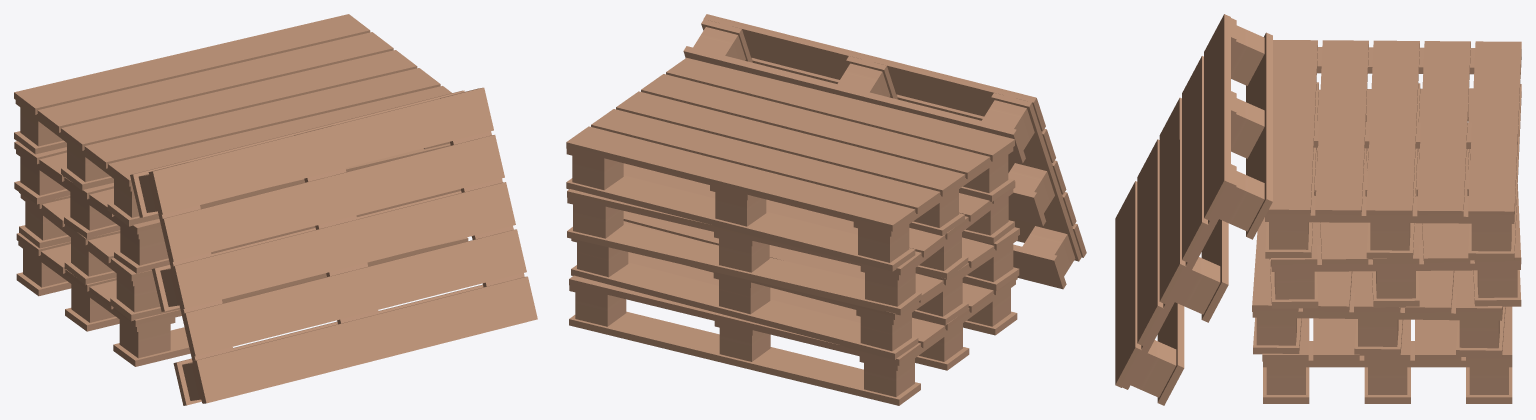
Rendered from SM_Exterior_PaletsApilados.fbx.
The picture shows the model from 3 angles, left to right: view 1: azimuth 30°, elevation 25°; view 2: azimuth 150°, elevation 25°; view 3: azimuth 270°, elevation 25°; orthographic projection. The views are drawn at different scales.
Parts seen in each view (by area): view 1: SM_Exterior_PaletsApilados; view 2: SM_Exterior_PaletsApilados; view 3: SM_Exterior_PaletsApilados.
Part boxes in pixels (bbox=[...]): SM_Exterior_PaletsApilados: bbox=[14, 14, 537, 405]; SM_Exterior_PaletsApilados: bbox=[566, 14, 1086, 405]; SM_Exterior_PaletsApilados: bbox=[1115, 14, 1521, 405].
Size of the model in its own units: 427 by 263 by 425.
